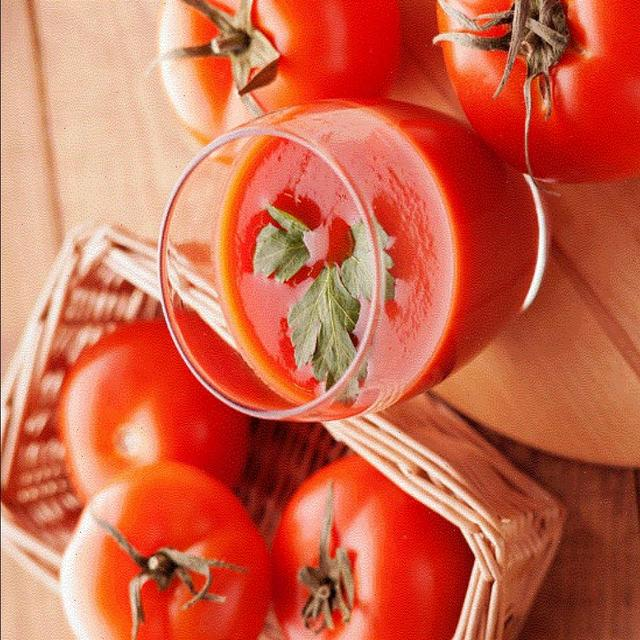Healthy Fruit: (86, 43, 372, 373)
